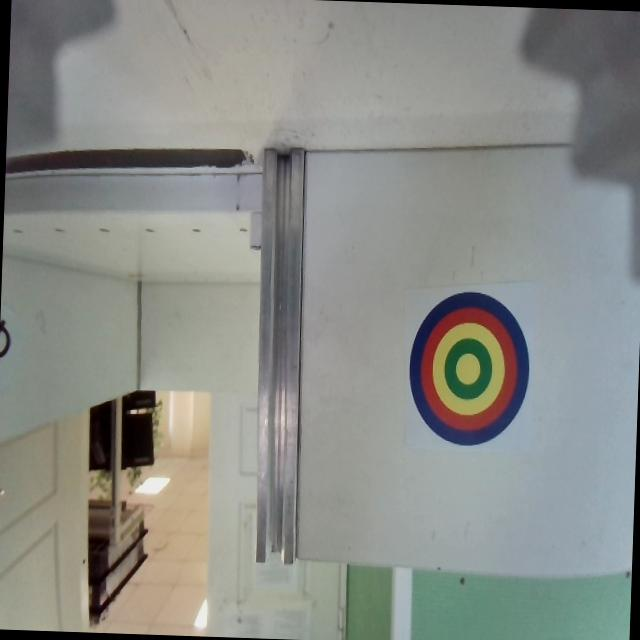cogn: (407, 288, 532, 450)
